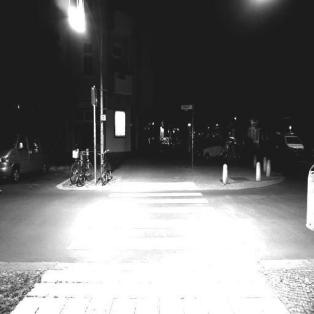Paso de Cebra: (62, 215, 248, 258), (99, 191, 211, 205)
